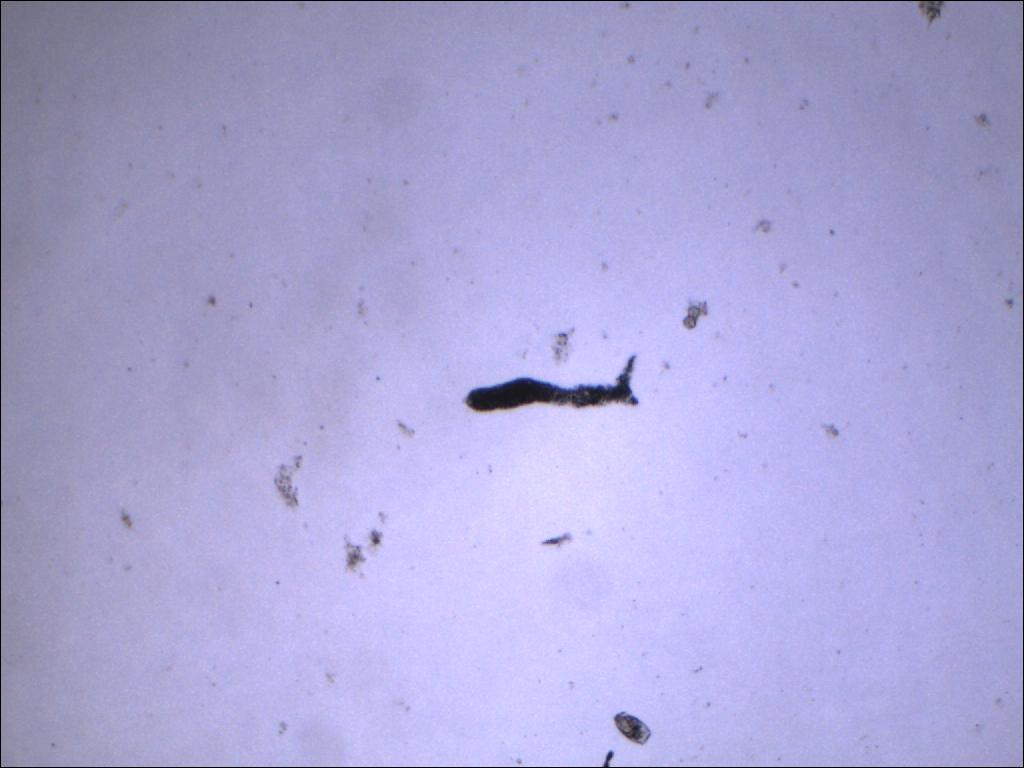amoeba: (458, 349, 650, 419)
